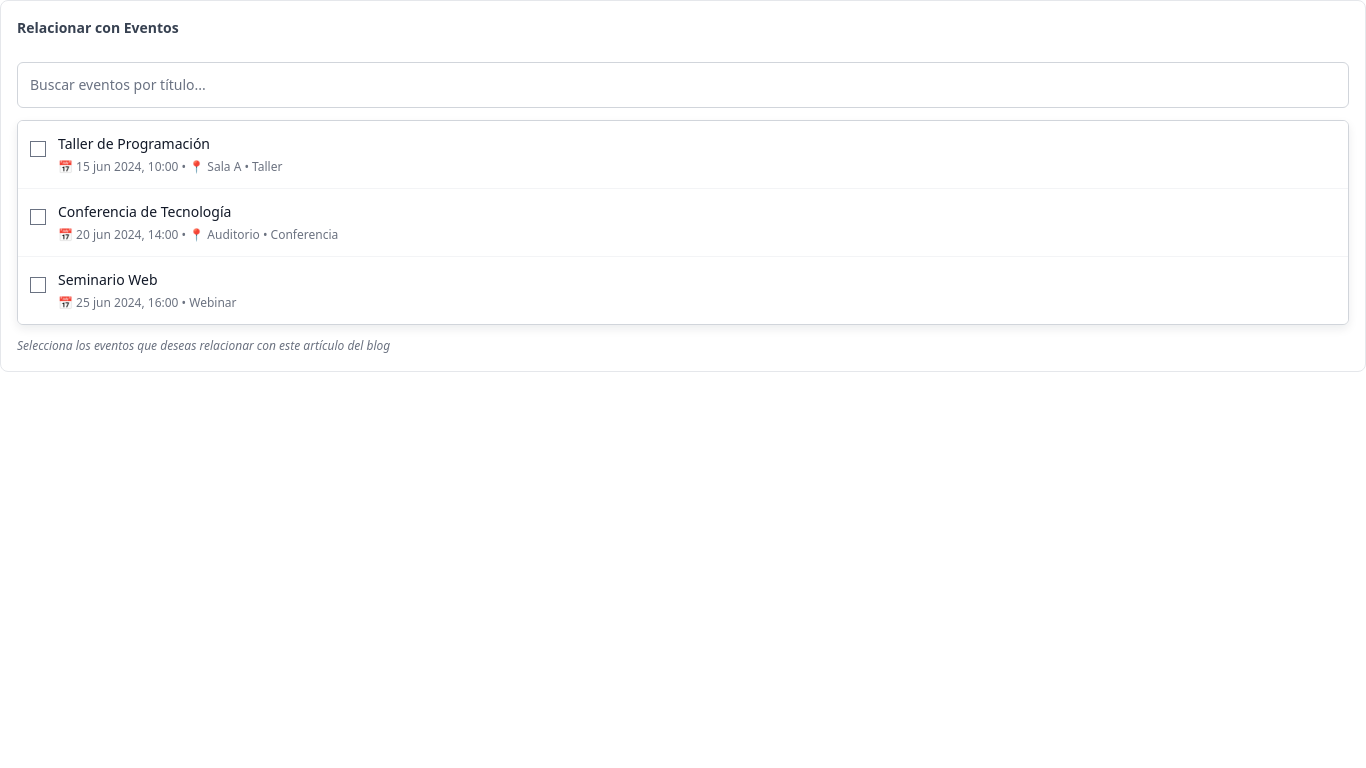
BlogEventRelation › Event Selection › should deselect event when clicked again
This screenshot has width=1366, height=768.
Check: the text "Taller de Programación" is shown, box top-left (58, 134), bottom-right (210, 153)
Click the button that starts with "Taller de Programación" at point(134, 144), box top-left (18, 121), bottom-right (1348, 189)
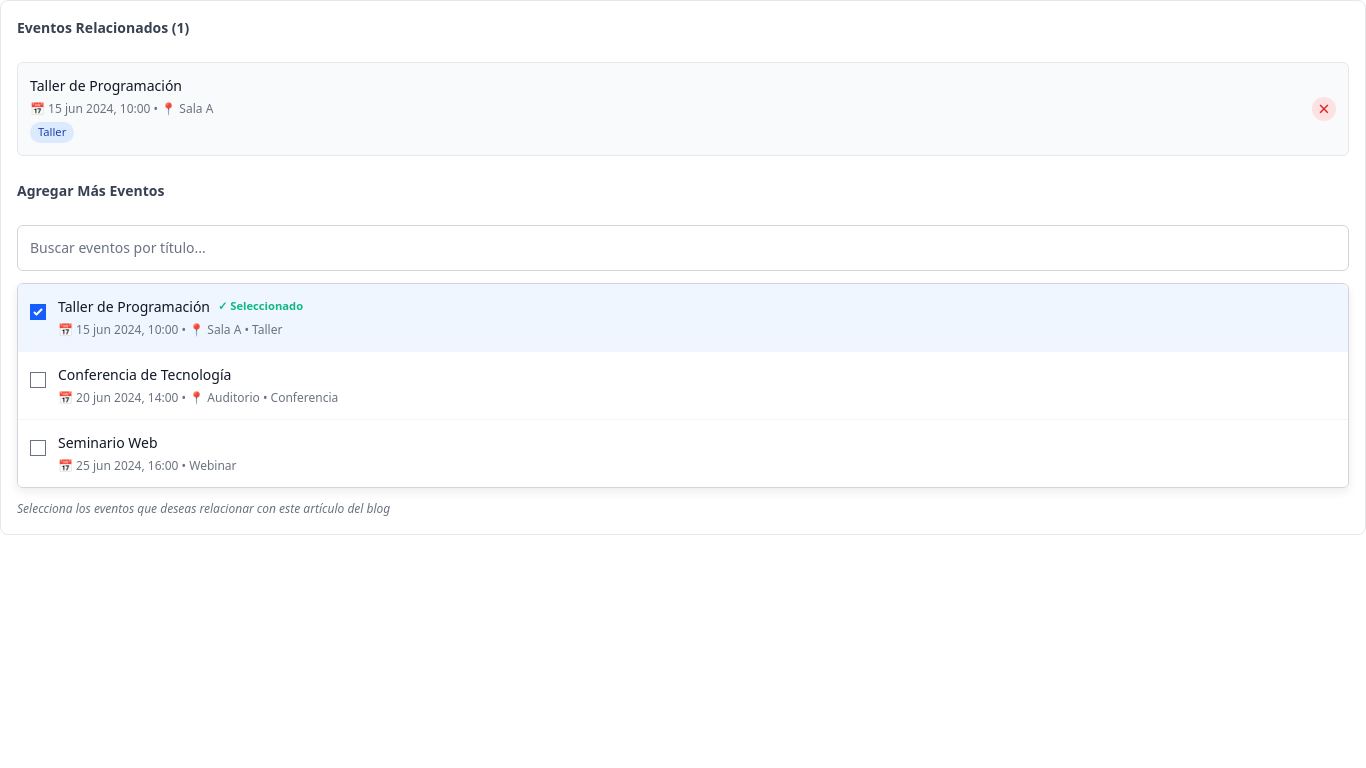
Check: the heading "Eventos Relacionados (1)" is shown, box top-left (17, 18), bottom-right (189, 37)
Click the button that starts with "Taller de Programación" at point(134, 306), box top-left (18, 284), bottom-right (1348, 352)
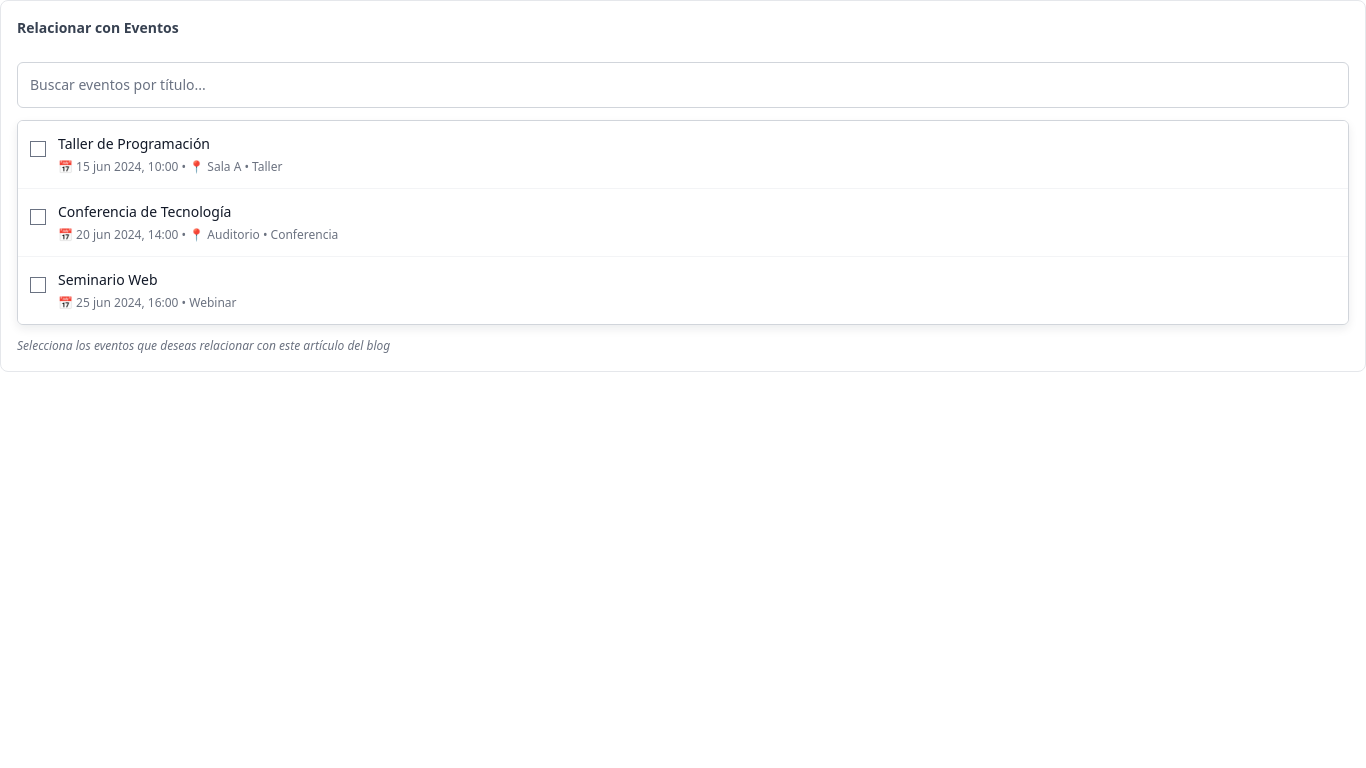
Check: the heading "Eventos Relacionados (1)" is gone
